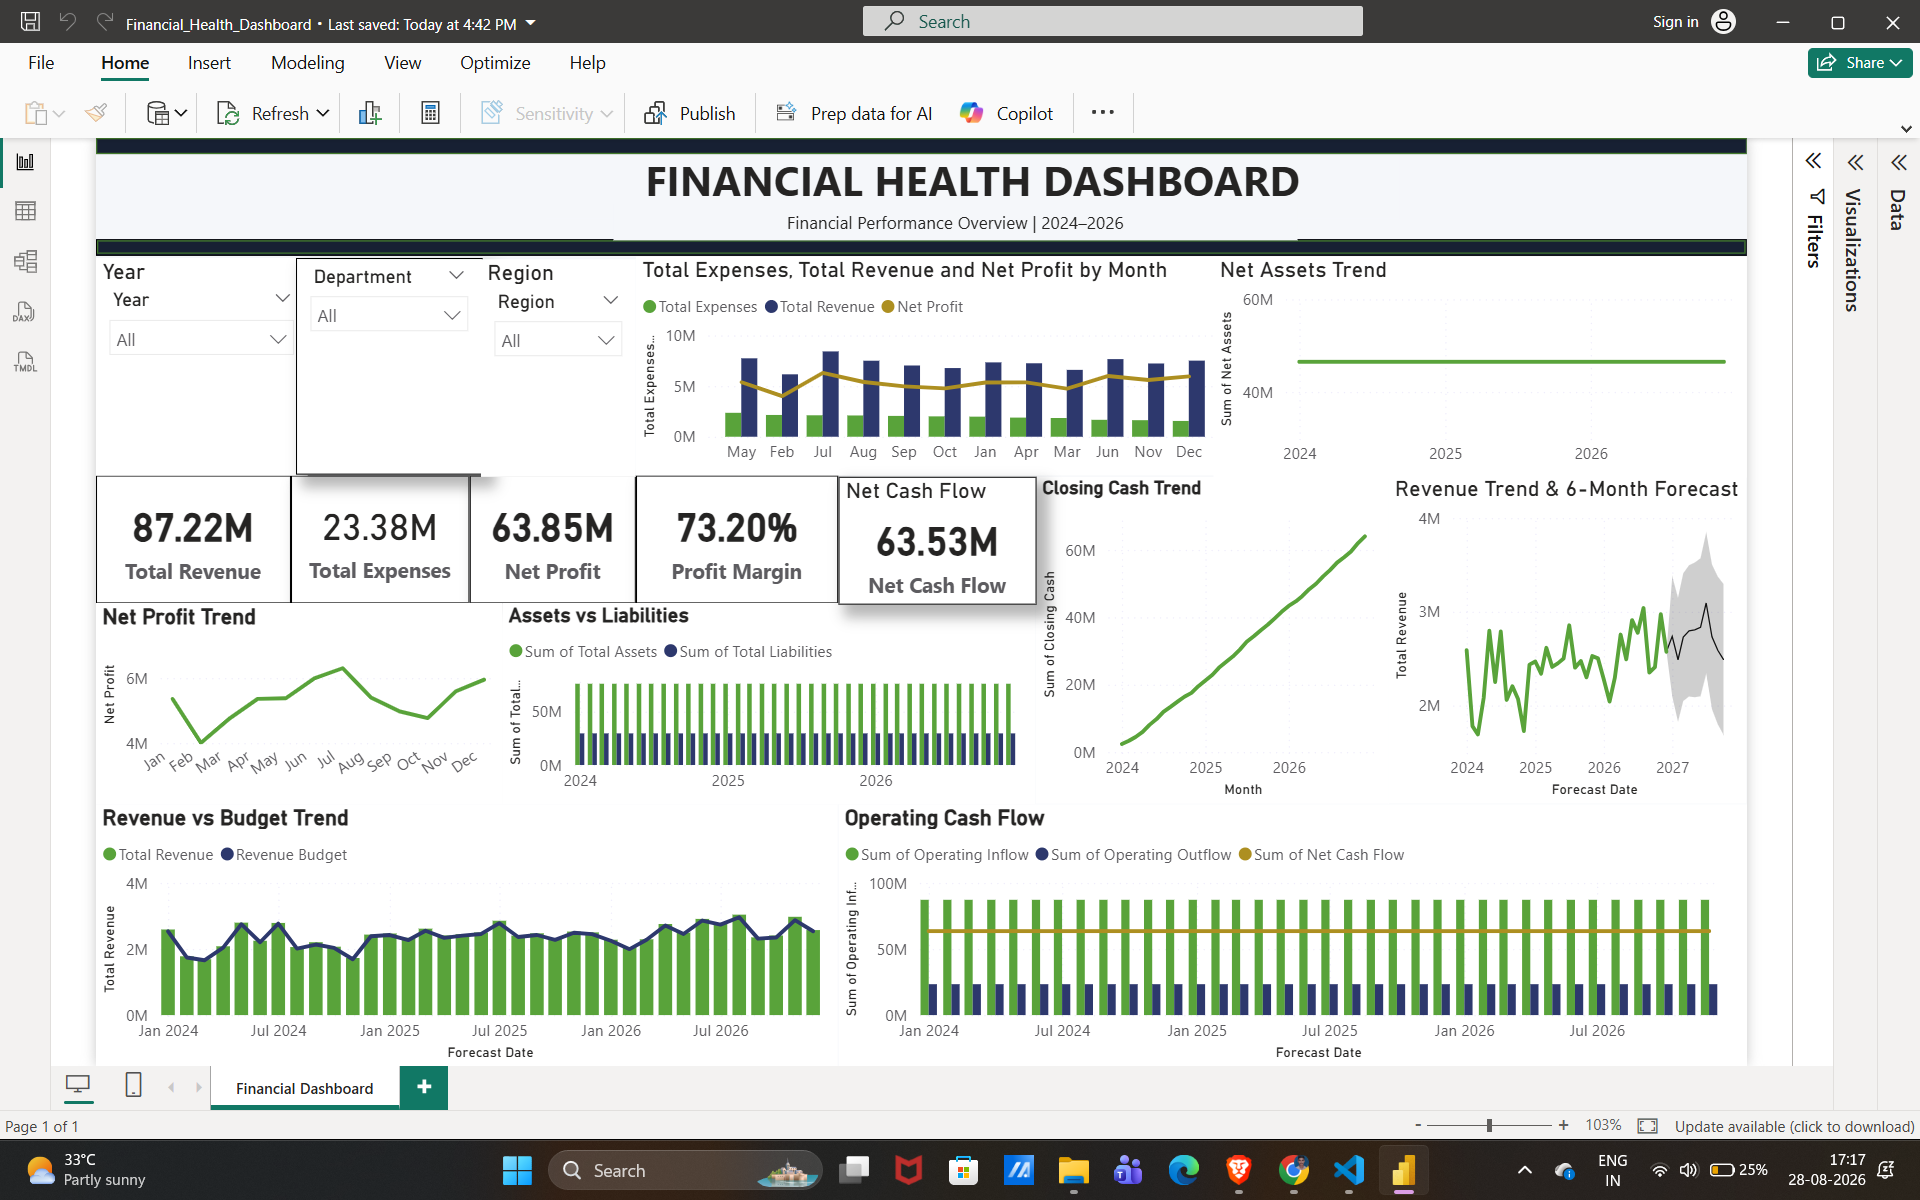

What the dashboard file says about the page in this screenshot:
{"tool":"powerbi","page":{"name":"Financial Dashboard","canvas":[1280,720],"ordinal":0},"visuals":[{"type":"card","fields":{"Values":["Financial Measures.Total Revenue"]},"box":[0,261.6,151.2,98.8],"z":0},{"type":"card","fields":{"Values":["Financial Measures.Total Expenses"]},"box":[151.2,261.6,138.4,98.8],"z":1000},{"type":"card","fields":{"Values":["Financial Measures.Net Profit"]},"box":[289.5,261.6,129.1,98.8],"z":2000},{"type":"card","fields":{"Values":["Financial Measures.Profit Margin"]},"box":[418.6,261.6,157,98.8],"z":3000},{"type":"slicer","title":"Year","fields":{"Values":["DimDate.Year"]},"box":[0,93,164,168.6],"z":4000},{"type":"lineClusteredColumnComboChart","fields":{"Category":["DimDate.Month"],"Y":["Financial Measures.Total Expenses","Financial Measures.Total Revenue"],"Y2":["Financial Measures.Net Profit"]},"box":[418.6,91.9,459.3,169.8],"z":5000},{"type":"lineChart","title":" Net Profit Trend","fields":{"Category":["DimDate.Month"],"Y":["Financial Measures.Net Profit"]},"box":[0,360.5,315.1,155.8],"z":6000},{"type":"clusteredColumnChart","title":"Assets vs Liabilities","fields":{"Y":["Sum(BalanceSheet.Total Assets)","Sum(BalanceSheet.Total Liabilities)"],"Category":["DimDate.Forecast Date"]},"box":[315.1,360.5,414,155.8],"z":7000},{"type":"lineChart","title":"Net Assets Trend","fields":{"Y":["Sum(BalanceSheet.Net Assets)"],"Category":["DimDate.Forecast Date"]},"box":[866.3,91.9,414,170.9],"z":8000},{"type":"lineClusteredColumnComboChart","title":"Operating Cash Flow","fields":{"Y":["Sum(CashFlow.Operating Inflow)","Sum(CashFlow.Operating Outflow)"],"Y2":["Sum(CashFlow.Net Cash Flow)"],"Category":["DimDate.Forecast Date"]},"box":[575.6,516.3,704.7,203.5],"z":9000},{"type":"lineChart","title":"Closing Cash Trend","fields":{"Category":["CashFlow.Month.Variation.Date Hierarchy.Month"],"Y":["Sum(CashFlow.Closing Cash)"]},"box":[729.1,262.8,273.3,253.5],"z":10000},{"type":"card","title":"Net Cash Flow","fields":{"Values":["Sum(CashFlow.Net Cash Flow)"]},"box":[575.6,262.8,153.5,98.8],"z":11000},{"type":"slicer","title":"Department","fields":{"Values":["DimDepartment.Department"]},"box":[154.9,93.5,144.5,168.4],"z":12000},{"type":"slicer","title":"Region","fields":{"Values":["DimRegion.Region"]},"box":[298.8,94.2,119.8,168.6],"z":13000},{"type":"lineClusteredColumnComboChart","title":"Revenue vs Budget Trend","fields":{"Y":["Financial Measures.Total Revenue"],"Y2":["Financial Measures.Revenue Budget"],"Category":["DimDate.Forecast Date"]},"box":[0,516.3,575.6,203.5],"z":14000},{"type":"lineChart","title":"Revenue Trend & 6-Month Forecast","fields":{"Y":["Financial Measures.Total Revenue"],"Category":["DimDate.Forecast Date"]},"box":[1002.3,261.6,277.9,254.7],"z":15000},{"type":"textbox","box":[348.8,5.8,661.6,57],"z":16000},{"type":"shape","box":[0,0,1280.4,12.5],"z":17000},{"type":"shape","box":[0,79,1280.4,12.5],"z":18000},{"type":"textbox","box":[401.2,51.2,530.2,27.9],"z":18001}]}

Visuals, with their boxes on the page's 1280x720 design canvas (x1, y1, x2, y2). These are canvas units, not pixel positions in the 1920x1200 screenshot, which may show the page scaled, cropped or inside an application window:
card - Financial Measures.Total Revenue: 0/262/151/360
card - Financial Measures.Total Expenses: 151/262/290/360
card - Financial Measures.Net Profit: 290/262/419/360
card - Financial Measures.Profit Margin: 419/262/576/360
"Year" slicer: 0/93/164/262
lineClusteredColumnComboChart - DimDate.Month x Financial Measures.Total Expenses: 419/92/878/262
" Net Profit Trend" lineChart: 0/360/315/516
"Assets vs Liabilities" clusteredColumnChart: 315/360/729/516
"Net Assets Trend" lineChart: 866/92/1280/263
"Operating Cash Flow" lineClusteredColumnComboChart: 576/516/1280/720
"Closing Cash Trend" lineChart: 729/263/1002/516
"Net Cash Flow" card: 576/263/729/362
"Department" slicer: 155/94/299/262
"Region" slicer: 299/94/419/263
"Revenue vs Budget Trend" lineClusteredColumnComboChart: 0/516/576/720
"Revenue Trend & 6-Month Forecast" lineChart: 1002/262/1280/516
textbox: 349/6/1010/63
shape: 0/0/1280/12
shape: 0/79/1280/92
textbox: 401/51/931/79
